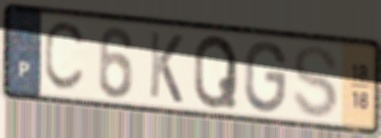6: (96, 23, 135, 101)
C: (42, 19, 90, 95)
G: (242, 39, 289, 116)
K: (147, 27, 185, 106)
Q: (191, 33, 240, 111)
S: (291, 43, 342, 121)
